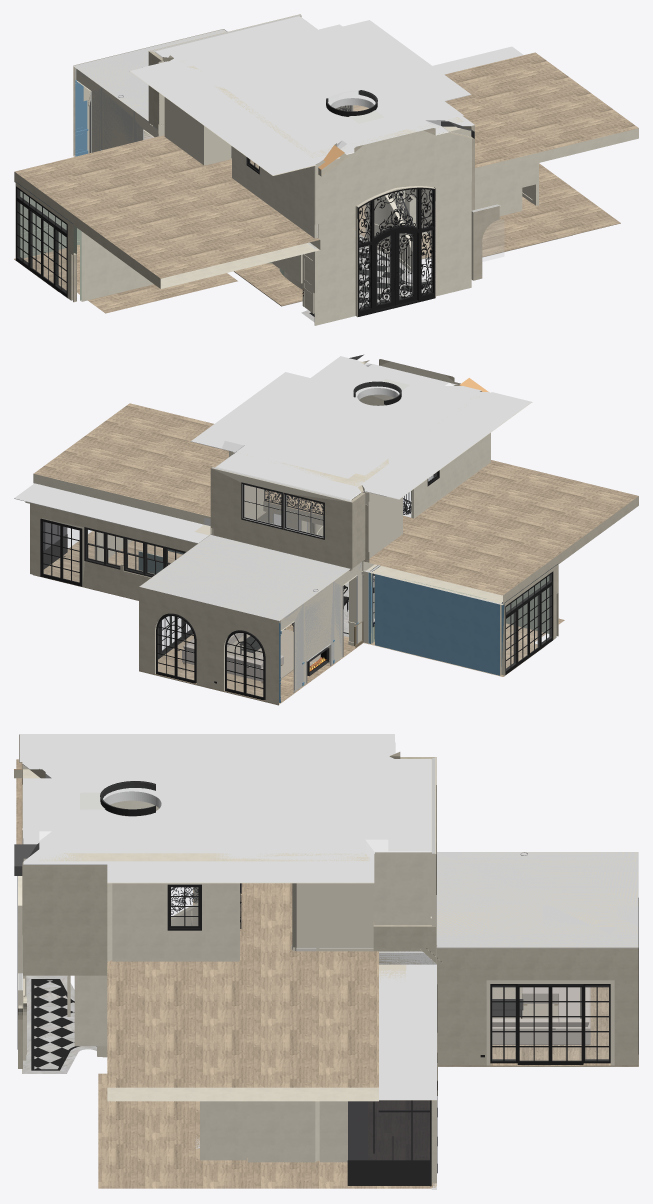
The model's file is family-room-34b5f9e40ac7.glb.
The picture shows the model from 3 angles, top to bottom: view 1: azimuth 30°, elevation 25°; view 2: azimuth 150°, elevation 25°; view 3: azimuth 270°, elevation 25°; orthographic projection. The views are drawn at different scales.
Parts seen in each view (by area): view 1: family-room-look-2575515a05775d9e, family-room-look-e8793759323e04f0, family-room-look-9d91b47435c6fb33, family-room-look-34525a54e63b733b, family-room-look-3b0077416469e01b, family-room-look-d5a4a1b5d3594c04, family-room-look-5f56640b372ec5ce, family-room-look-746250f96522f643, family-room-4a969f5cc1ae3dfe, family-room-look-bce662e26d5a5947, family-room-look-d999b7e09afcf2f4, family-room-9d80b152e3f2ea10 (+30 smaller); view 2: family-room-look-2575515a05775d9e, family-room-look-e8793759323e04f0, family-room-look-9d91b47435c6fb33, family-room-4a969f5cc1ae3dfe, family-room-look-b19b106fc304963c, family-room-look-245f595ae2832e16, family-room-969b861f9850351e, family-room-look-bfb9fa537cd11d1d, family-room-look-9a0e9ee9b2a451d7, family-room-9d80b152e3f2ea10, family-room-look-5f56640b372ec5ce, family-room-55ff1dfd7b659ec1 (+26 smaller); view 3: family-room-look-2575515a05775d9e, family-room-look-e8793759323e04f0, family-room-look-9d91b47435c6fb33, family-room-4a969f5cc1ae3dfe, family-room-look-3b0077416469e01b, family-room-e706aa16b4547c37, family-room-look-62353aa10fc57f23, family-room-50d54560d247b537, family-room-look-c51ecd664a3b22a3, family-room-look-9a0e9ee9b2a451d7, family-room-look-5f56640b372ec5ce, family-room-look-69af8f587252f9fa (+28 smaller).
Part boxes in pixels (bbox=[...]): family-room-look-2575515a05775d9e: bbox=[14, 52, 638, 288]; family-room-look-e8793759323e04f0: bbox=[180, 23, 463, 157]; family-room-look-9d91b47435c6fb33: bbox=[130, 16, 474, 175]; family-room-look-34525a54e63b733b: bbox=[314, 126, 471, 244]; family-room-look-3b0077416469e01b: bbox=[14, 163, 620, 306]; family-room-look-d5a4a1b5d3594c04: bbox=[314, 208, 471, 325]; family-room-look-5f56640b372ec5ce: bbox=[254, 81, 404, 139]; family-room-look-746250f96522f643: bbox=[232, 146, 317, 238]; family-room-4a969f5cc1ae3dfe: bbox=[73, 29, 226, 120]; family-room-look-bce662e26d5a5947: bbox=[357, 187, 435, 316]; family-room-look-d999b7e09afcf2f4: bbox=[80, 230, 153, 301]; family-room-9d80b152e3f2ea10: bbox=[76, 69, 158, 152]; family-room-look-2575515a05775d9e: bbox=[33, 403, 638, 604]; family-room-look-e8793759323e04f0: bbox=[222, 356, 481, 486]; family-room-look-9d91b47435c6fb33: bbox=[191, 362, 532, 500]; family-room-4a969f5cc1ae3dfe: bbox=[139, 534, 349, 621]; family-room-look-b19b106fc304963c: bbox=[375, 573, 501, 675]; family-room-look-245f595ae2832e16: bbox=[210, 467, 352, 568]; family-room-969b861f9850351e: bbox=[139, 587, 280, 704]; family-room-look-bfb9fa537cd11d1d: bbox=[30, 502, 197, 600]; family-room-look-9a0e9ee9b2a451d7: bbox=[14, 483, 208, 543]; family-room-9d80b152e3f2ea10: bbox=[280, 562, 362, 690]; family-room-look-5f56640b372ec5ce: bbox=[324, 377, 464, 430]; family-room-55ff1dfd7b659ec1: bbox=[281, 562, 362, 692]; family-room-look-2575515a05775d9e: bbox=[16, 759, 378, 1101]; family-room-look-e8793759323e04f0: bbox=[39, 756, 388, 861]; family-room-look-9d91b47435c6fb33: bbox=[19, 734, 431, 883]; family-room-4a969f5cc1ae3dfe: bbox=[436, 852, 638, 948]; family-room-look-3b0077416469e01b: bbox=[98, 920, 436, 1188]; family-room-e706aa16b4547c37: bbox=[437, 948, 633, 1065]; family-room-look-62353aa10fc57f23: bbox=[23, 865, 112, 975]; family-room-50d54560d247b537: bbox=[436, 852, 638, 948]; family-room-look-c51ecd664a3b22a3: bbox=[112, 883, 239, 961]; family-room-look-9a0e9ee9b2a451d7: bbox=[379, 964, 436, 1100]; family-room-look-5f56640b372ec5ce: bbox=[83, 756, 196, 825]; family-room-look-69af8f587252f9fa: bbox=[292, 883, 373, 947].
Size of the model in its own units: 21.02 by 7.02 by 16.88.
Materials: 73 (13 with a texture image).
